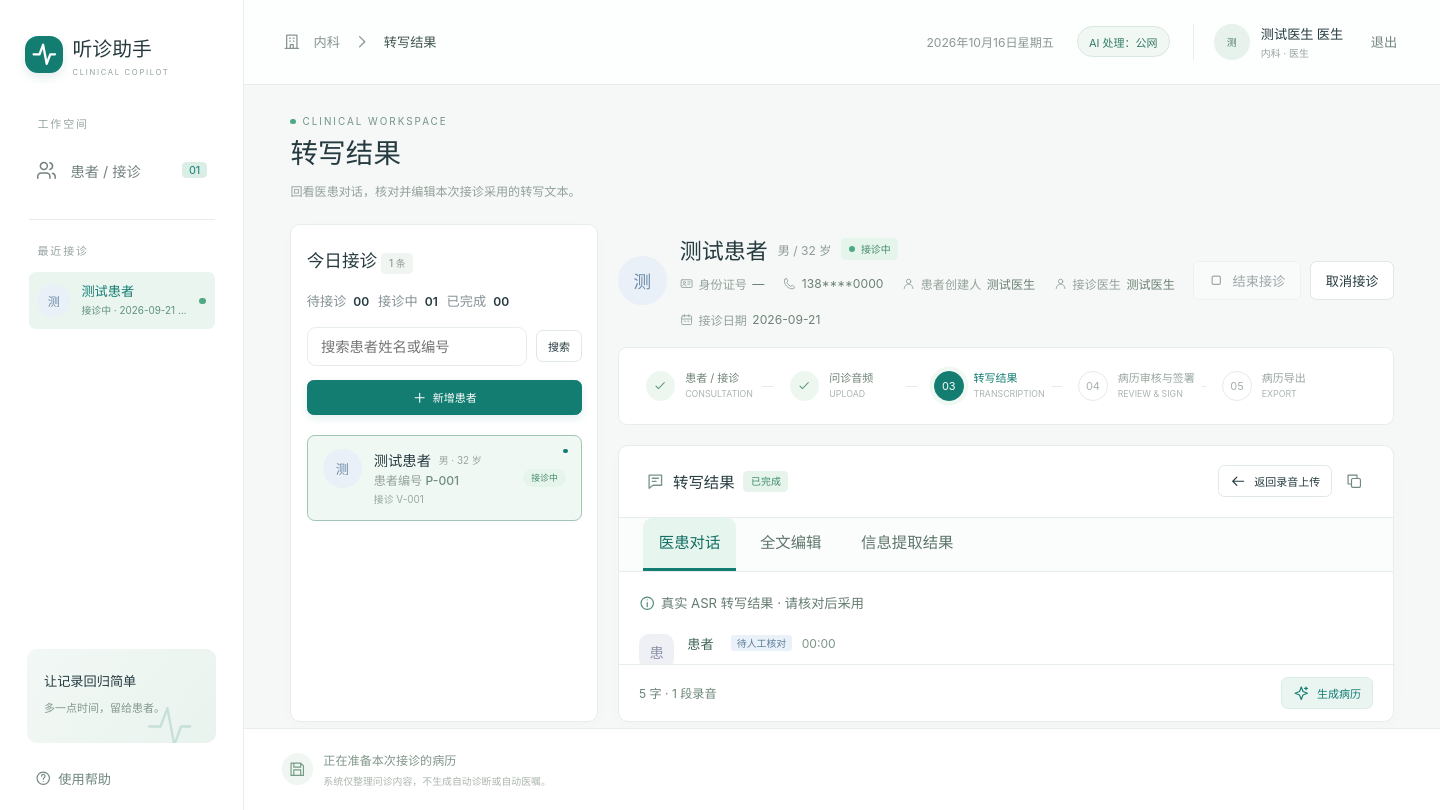
Test: supplemental recording workflow › returns from transcript to audio without mutating existing data and highlights audio
The width and height of the screenshot is (1440, 810).
Click the button with aria-label "返回录音上传": click(1275, 481) x1=1218 y1=465 x2=1332 y2=497
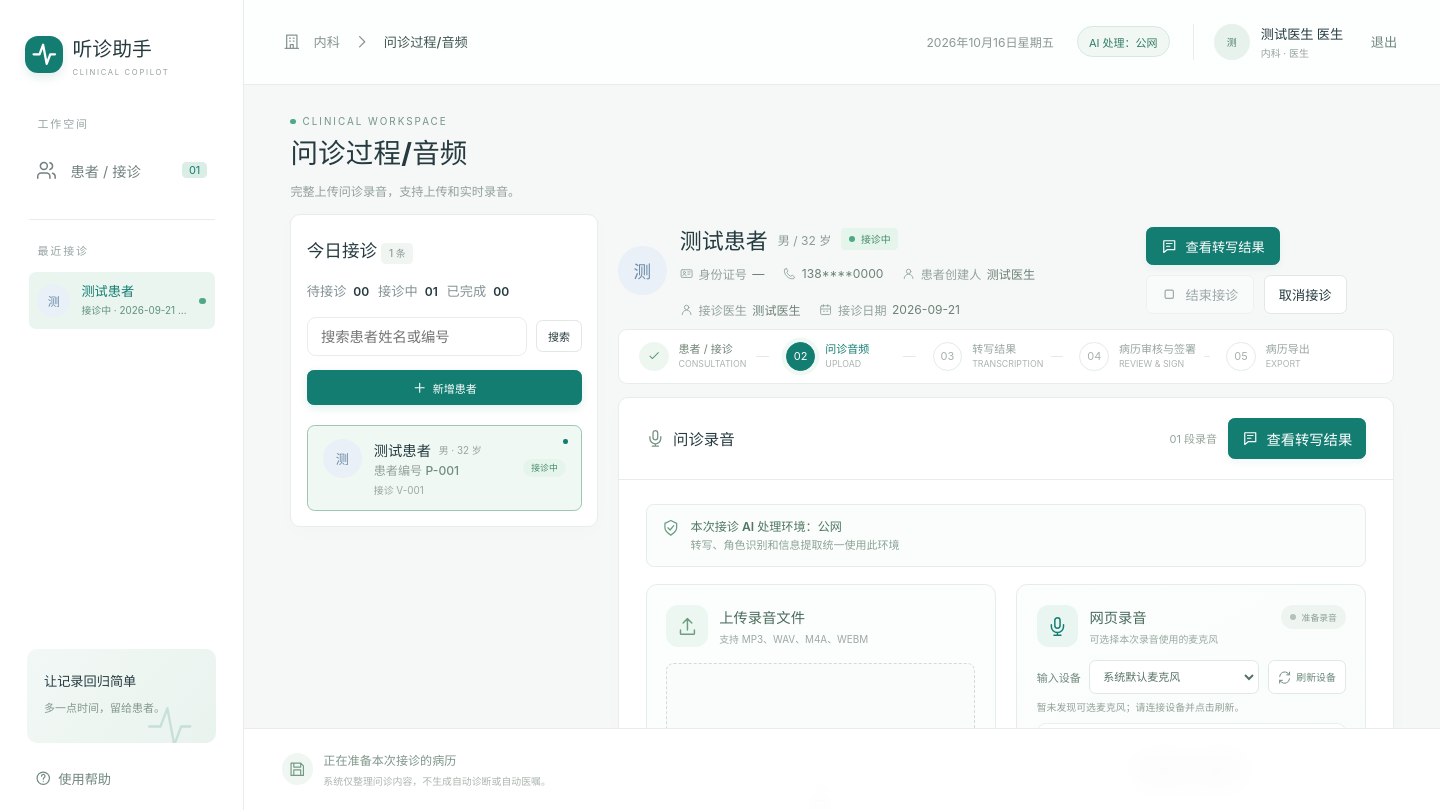
Check: the button with class "current" shows "问诊音频", box x1=786 y1=341 x2=933 y2=372
Check: the text "问诊录音" is shown, box x1=290 y1=184 x2=520 y2=199
